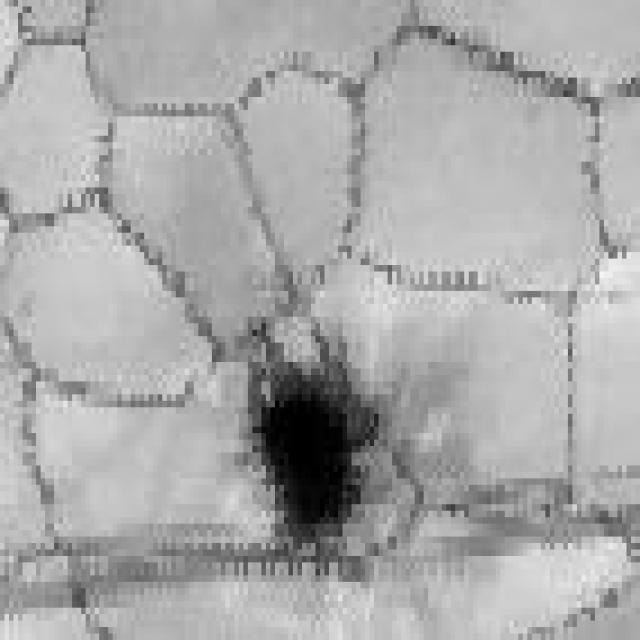good_void: (237, 311, 386, 571)
